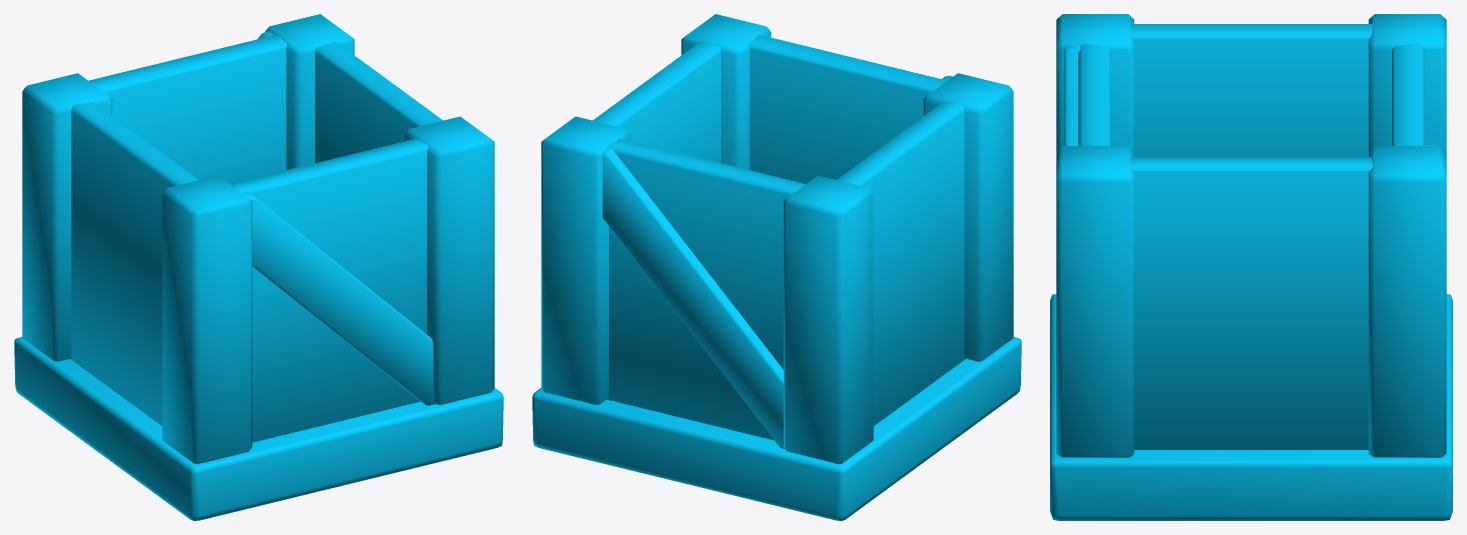
Rendered from Crate.FBX.
The picture shows the model from 3 angles, left to right: view 1: azimuth 30°, elevation 25°; view 2: azimuth 150°, elevation 25°; view 3: azimuth 270°, elevation 25°; orthographic projection. The views are drawn at different scales.
Parts seen in each view (by area): view 1: Crate; view 2: Crate; view 3: Crate.
Part boxes in pixels (box(x1,y1,x2,y2)): Crate: box(14, 14, 503, 520); Crate: box(532, 14, 1021, 520); Crate: box(1050, 14, 1452, 520).
Size of the model in its own units: 1.29 by 1.22 by 1.29.
